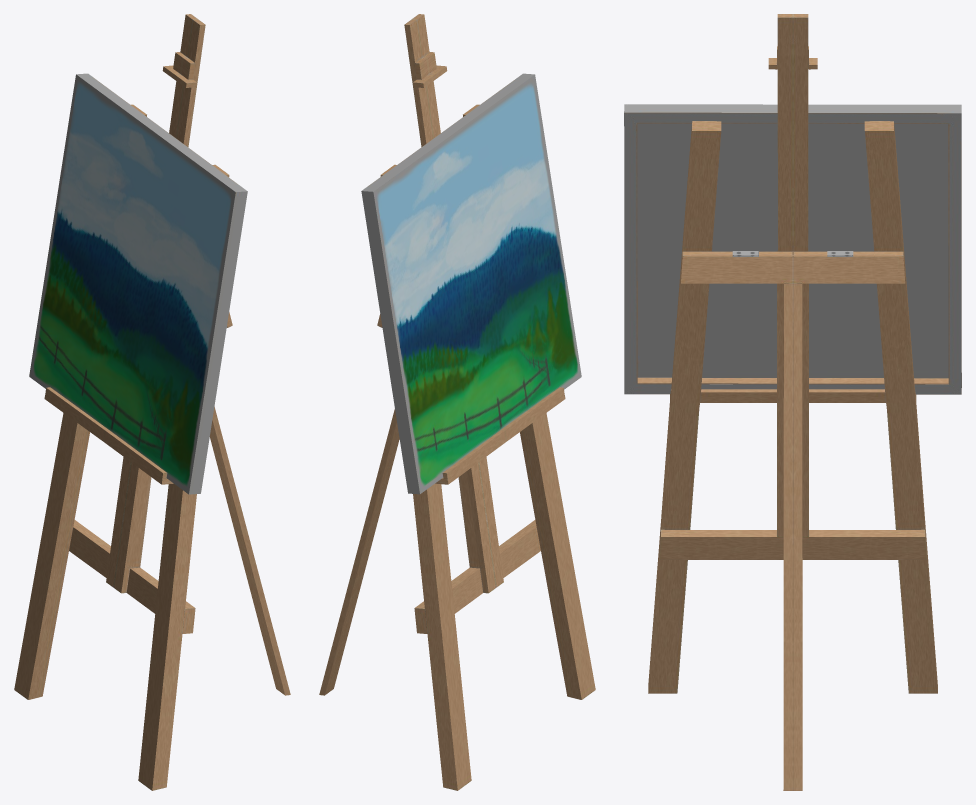
File: easel_canvas.glb
3 renders of one model, left to right at view 1: azimuth 30°, elevation 25°; view 2: azimuth 150°, elevation 25°; view 3: azimuth 270°, elevation 25°, orthographic. The views are drawn at different scales.
Visible parts, largest first — view 1: canvas, easel; view 2: canvas, easel; view 3: easel, canvas.
Boxes of the visible parts, x1,y1,x2,y2 form: canvas: (29,73,247,494); easel: (14,14,290,790); canvas: (361,73,581,494); easel: (319,14,595,790); easel: (648,14,937,790); canvas: (624,104,961,394).
Size of the model in its own units: 0.5467 by 1.79 by 0.7499.
Materials: 2 (2 with a texture image).
